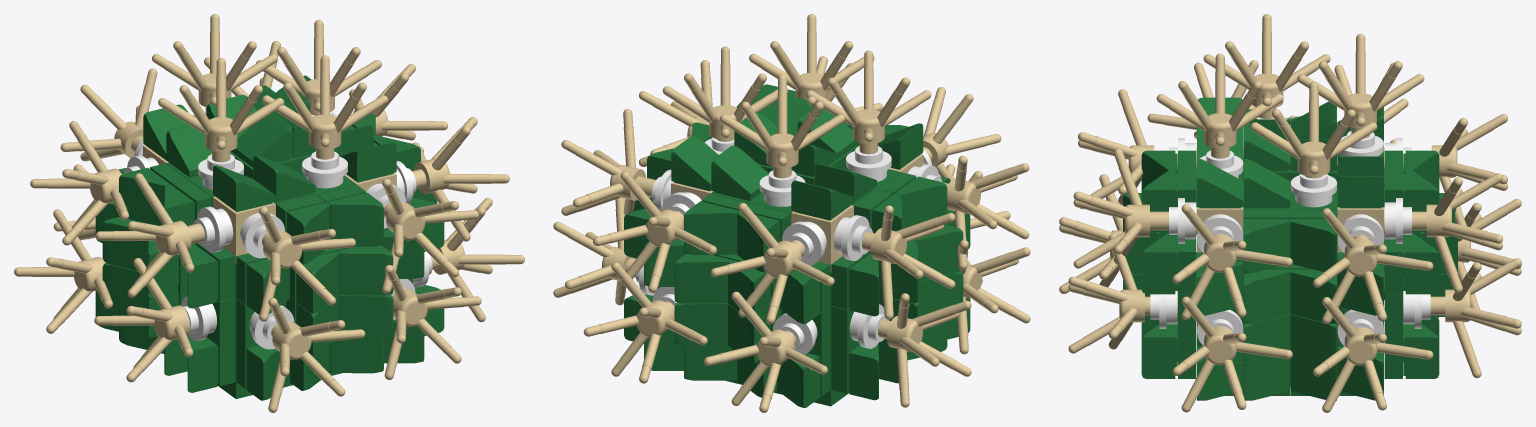
File: cactus2.dae
The picture shows the model from 3 angles, left to right: view 1: azimuth 30°, elevation 25°; view 2: azimuth 150°, elevation 25°; view 3: azimuth 270°, elevation 25°; orthographic projection.
Parts seen in each view (by area): view 1: Inner-Node-Cactus__1__Copy-134, Inner-Node-Cactus__1__Copy-135, Inner-Node-Cactus__1__Copy-128, Inner-Node-Cactus__1__Copy-117, Inner-Node-Cactus__1__Copy-101, Inner-Node-Cactus__1__Copy-116, Inner-Node-Cactus__1__Copy-115, Inner-Node-Cactus__1__Copy-129, Inner-Node-Cactus__1__Copy-126, Inner-Node-Cactus__1__Copy-137, Inner-Node-Cactus__1__Copy-127, Inner-Node-Cactus__1__Copy-118 (+52 smaller); view 2: Inner-Node-Cactus__1__Copy-137, Inner-Node-Cactus__1__Copy-124, Inner-Node-Cactus__1__Copy-134, Inner-Node-Cactus__1__Copy-123, Inner-Node-Cactus__1__Copy-125, Inner-Node-Cactus__1__Copy-122, Inner-Node-Cactus__1__Copy-126, Inner-Node-Cactus__1__Copy-127, Inner-Node-Cactus__1__Copy-120, Inner-Node-Cactus__1__Copy-128, Inner-Node-Cactus__1__Copy-136, Inner-Node-Cactus__1__Copy-135 (+52 smaller); view 3: Inner-Node-Cactus__1__Copy-135, Inner-Node-Cactus__1__Copy-121, Inner-Node-Cactus__1__Copy-136, Inner-Node-Cactus__1__Copy-119, Inner-Node-Cactus__1__Copy-120, Inner-Node-Cactus__1__Copy-118, Inner-Node-Cactus__1__Copy-115, Inner-Node-Cactus__1__Copy-122, Inner-Node-Cactus__1__Copy-137, Inner-Node-Cactus__1__Copy-123, Inner-Node-Cactus__1__Copy-134, Inner-Node-Cactus__1__Copy-116 (+56 smaller).
Part boxes in pixels (x1,y1,x2,y2): Inner-Node-Cactus__1__Copy-134: [158, 58, 284, 162]; Inner-Node-Cactus__1__Copy-135: [262, 55, 388, 159]; Inner-Node-Cactus__1__Copy-128: [95, 173, 204, 297]; Inner-Node-Cactus__1__Copy-117: [268, 297, 365, 412]; Inner-Node-Cactus__1__Copy-101: [259, 206, 355, 321]; Inner-Node-Cactus__1__Copy-116: [384, 265, 481, 379]; Inner-Node-Cactus__1__Copy-115: [382, 178, 478, 293]; Inner-Node-Cactus__1__Copy-129: [94, 258, 193, 382]; Inner-Node-Cactus__1__Copy-126: [30, 121, 128, 245]; Inner-Node-Cactus__1__Copy-137: [152, 14, 277, 115]; Inner-Node-Cactus__1__Copy-127: [14, 209, 112, 333]; Inner-Node-Cactus__1__Copy-118: [412, 117, 509, 241]; Inner-Node-Cactus__1__Copy-137: [719, 74, 844, 178]; Inner-Node-Cactus__1__Copy-124: [704, 291, 827, 412]; Inner-Node-Cactus__1__Copy-134: [806, 50, 931, 154]; Inner-Node-Cactus__1__Copy-123: [583, 262, 707, 383]; Inner-Node-Cactus__1__Copy-125: [710, 203, 834, 324]; Inner-Node-Cactus__1__Copy-122: [593, 171, 716, 292]; Inner-Node-Cactus__1__Copy-126: [862, 205, 955, 319]; Inner-Node-Cactus__1__Copy-127: [878, 293, 971, 407]; Inner-Node-Cactus__1__Copy-120: [561, 109, 655, 215]; Inner-Node-Cactus__1__Copy-128: [938, 155, 1029, 270]; Inner-Node-Cactus__1__Copy-136: [662, 46, 787, 141]; Inner-Node-Cactus__1__Copy-135: [749, 14, 874, 105]; Inner-Node-Cactus__1__Copy-135: [1156, 53, 1283, 158]; Inner-Node-Cactus__1__Copy-121: [1313, 297, 1433, 412]; Inner-Node-Cactus__1__Copy-136: [1250, 82, 1377, 178]; Inner-Node-Cactus__1__Copy-119: [1172, 296, 1292, 412]; Inner-Node-Cactus__1__Copy-120: [1313, 208, 1433, 323]; Inner-Node-Cactus__1__Copy-118: [1172, 204, 1292, 319]; Inner-Node-Cactus__1__Copy-115: [1073, 148, 1168, 268]; Inner-Node-Cactus__1__Copy-122: [1412, 173, 1502, 293]; Inner-Node-Cactus__1__Copy-137: [1297, 33, 1424, 138]; Inner-Node-Cactus__1__Copy-123: [1430, 258, 1521, 378]; Inner-Node-Cactus__1__Copy-134: [1203, 14, 1330, 118]; Inner-Node-Cactus__1__Copy-116: [1068, 233, 1150, 353].
Size of the model in its own units: 197 by 139 by 197.
